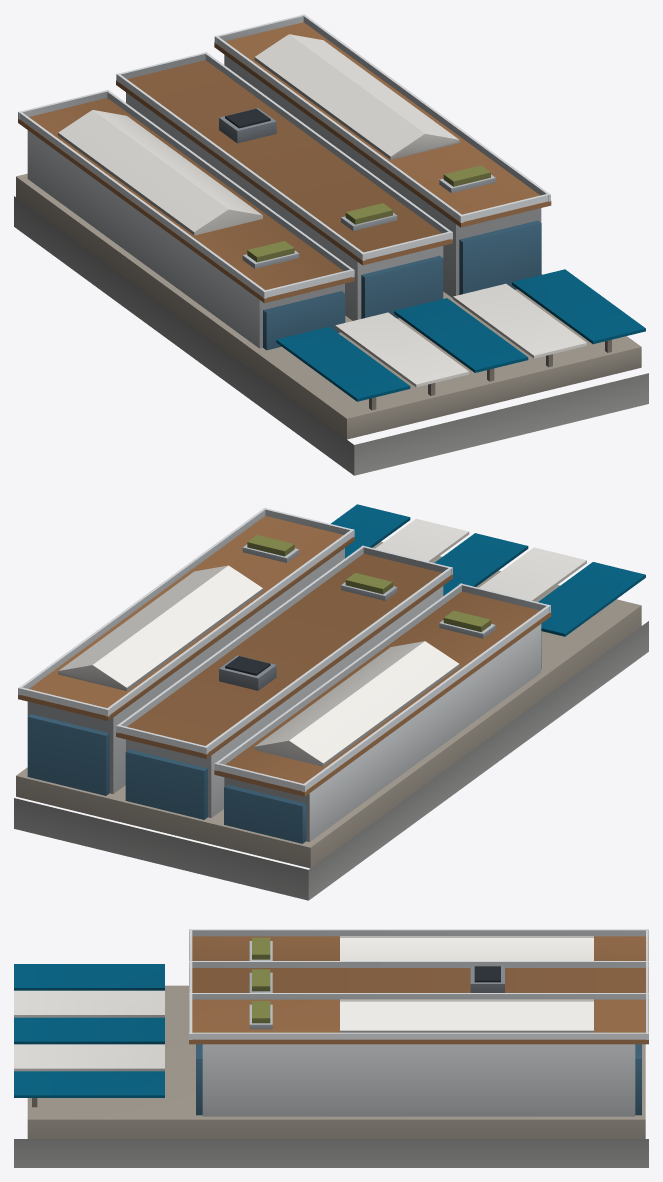
Rendered from retail-block-3.glb.
3 renders of one model, top to bottom at view 1: azimuth 30°, elevation 25°; view 2: azimuth 150°, elevation 25°; view 3: azimuth 270°, elevation 25°, orthographic. The views are drawn at different scales.
Visible parts, largest first — view 1: retail-block-3; view 2: retail-block-3; view 3: retail-block-3.
Part boxes in pixels (x1,y1,x2,y2): retail-block-3: (14,14,648,475); retail-block-3: (14,504,648,900); retail-block-3: (14,929,648,1167).
Size of the model in its own units: 30 by 15 by 60.
